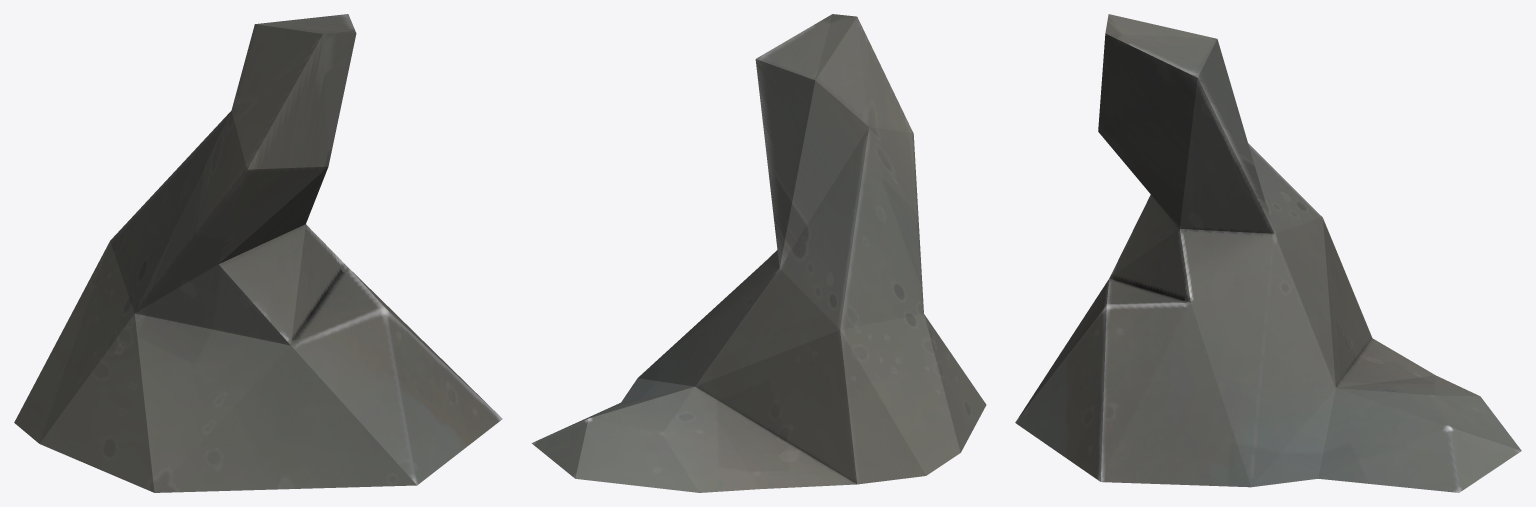
File: SM_Cavern_Rocks_03.FBX
3 renders of one model, left to right at view 1: azimuth 30°, elevation 25°; view 2: azimuth 150°, elevation 25°; view 3: azimuth 270°, elevation 25°, orthographic. The views are drawn at different scales.
Visible parts, largest first — view 1: SM_Cavern_Rocks_03; view 2: SM_Cavern_Rocks_03; view 3: SM_Cavern_Rocks_03.
Boxes of the visible parts, box(x1,y1,x2,y2) form: SM_Cavern_Rocks_03: box(14, 14, 502, 492); SM_Cavern_Rocks_03: box(531, 14, 986, 492); SM_Cavern_Rocks_03: box(1015, 14, 1521, 492).
Size of the model in its own units: 181 by 214 by 181.
